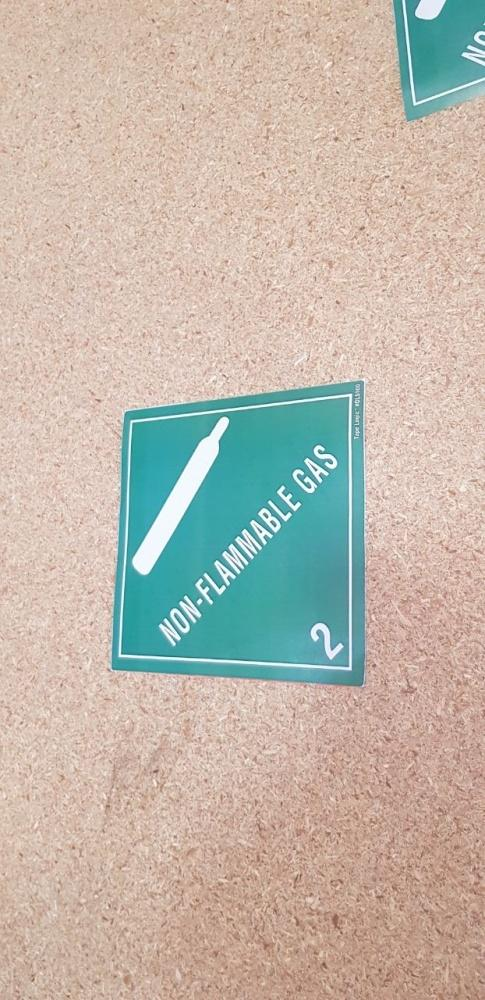non-flammable-gas: (111, 393, 364, 675), (394, 1, 485, 131)
